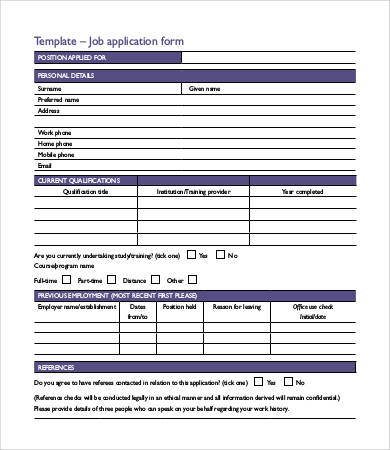table: (34, 69, 356, 171), (33, 176, 356, 246), (35, 289, 356, 354), (34, 361, 355, 419)
